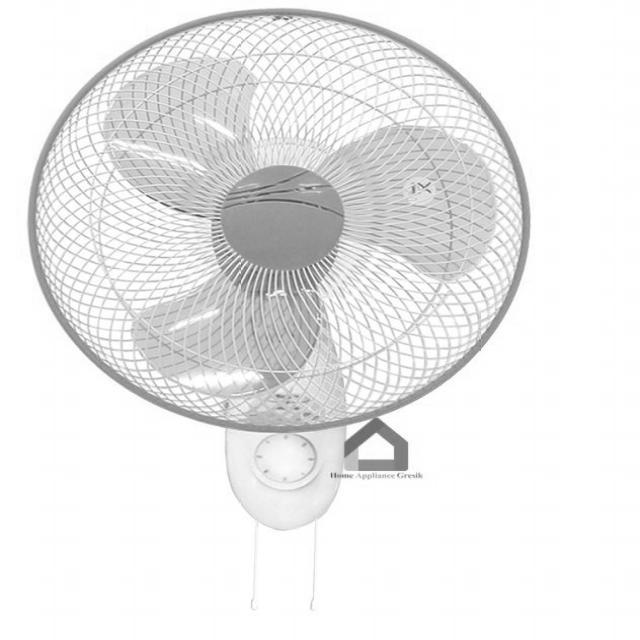fan: (29, 6, 538, 431)
